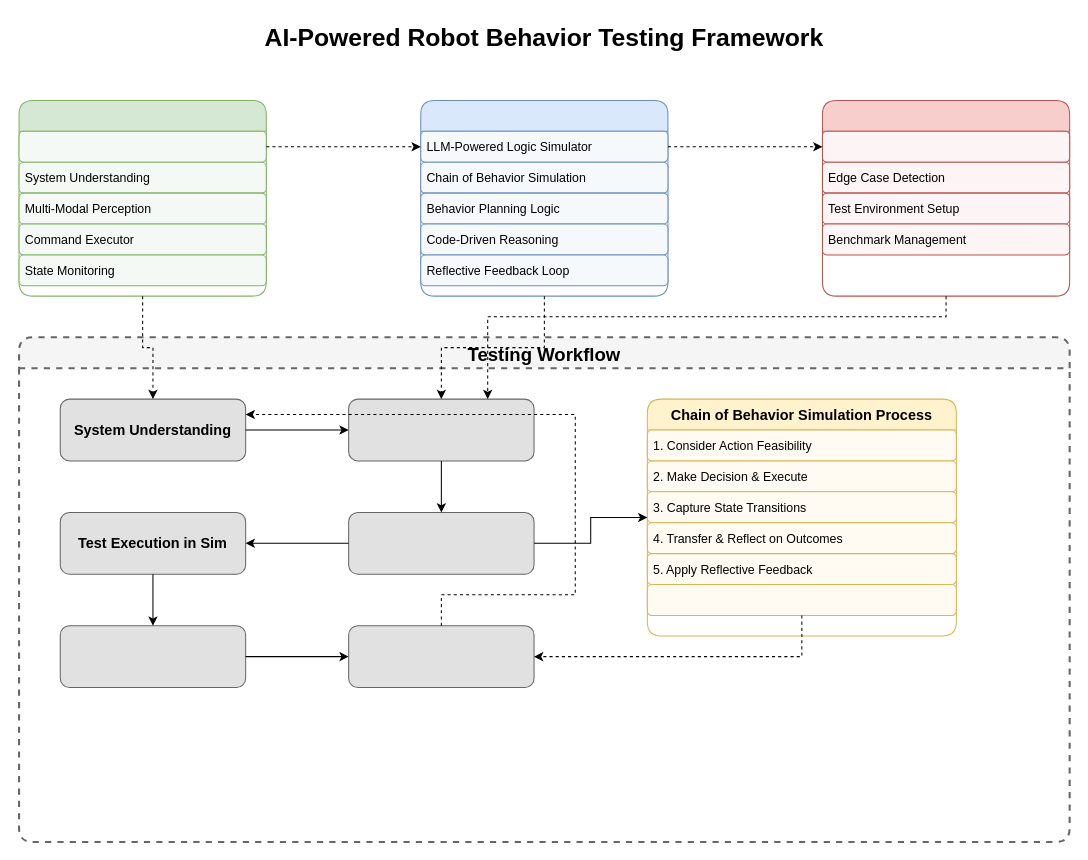
Image size: 1088x860. Some labels were removed from this diagram. The box of each missing label's shape, as (x1, y1, x2, y2) in pixels:
6. Validate Action Impact: (646, 583, 956, 615)
Behavior Simulation: (348, 511, 534, 574)
Behavior Simulator Module: (420, 99, 668, 296)
Error Diagnosis: (348, 625, 534, 688)
Results Verification: (59, 625, 246, 688)
ROS 2 Integration: (18, 130, 266, 162)
ROS Agent Module: (18, 99, 266, 296)
Scenario Creation: (821, 130, 1070, 162)
Test Case Generation: (348, 398, 534, 461)
Test Case Generator: (821, 99, 1070, 296)
